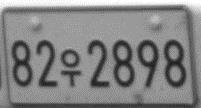2: (87, 38, 111, 88), (35, 38, 58, 88)
8: (111, 38, 135, 87), (162, 38, 186, 87), (10, 39, 33, 86)
9: (136, 38, 160, 88)
우: (59, 48, 82, 87)
